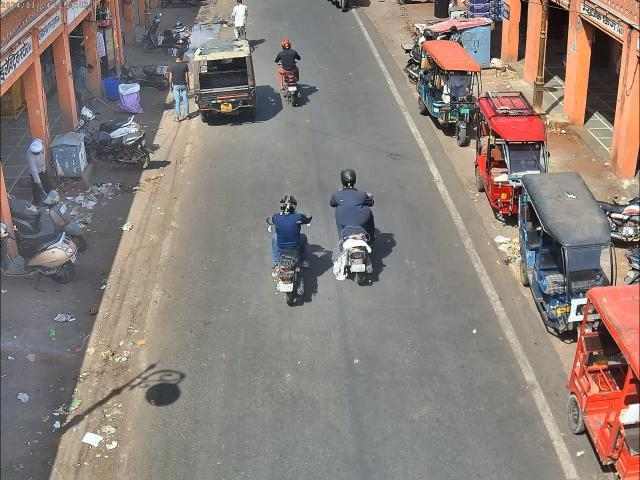auto: (515, 172, 617, 338), (570, 281, 640, 478), (471, 95, 552, 210), (417, 40, 484, 132), (193, 40, 257, 123)
bicycle-rider: (232, 0, 252, 41)
helmet: (339, 169, 359, 190), (280, 193, 298, 203), (280, 40, 294, 52)
motorbike-rider: (262, 195, 310, 302), (332, 169, 374, 284), (272, 41, 302, 110)
person: (24, 136, 48, 209), (170, 48, 190, 123)
scooty: (0, 219, 78, 283), (9, 184, 87, 243), (79, 105, 142, 158), (116, 55, 172, 91), (143, 13, 189, 50)
scooty-rider: (110, 79, 144, 117)
